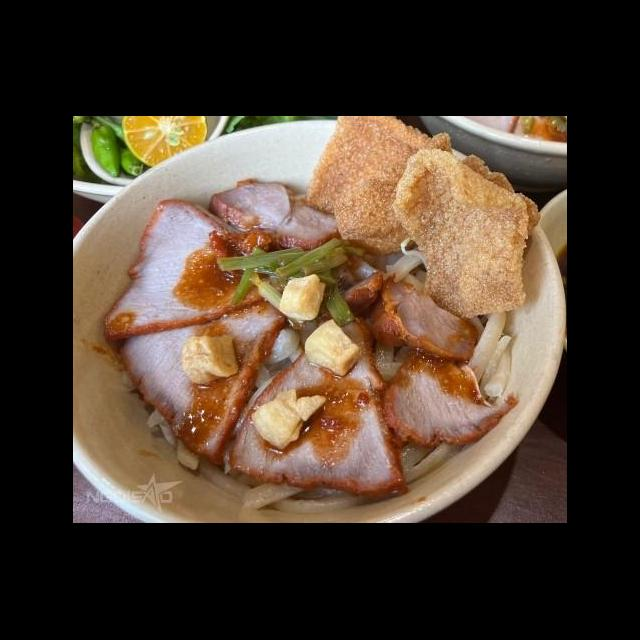banh da: (389, 144, 532, 324), (333, 132, 458, 260), (298, 118, 441, 218), (449, 150, 544, 272)
mi: (168, 438, 374, 524), (243, 318, 322, 412), (455, 304, 516, 410), (360, 242, 431, 300), (396, 432, 464, 488)
thit heo: (216, 310, 412, 503), (115, 290, 293, 468), (97, 195, 283, 344), (377, 342, 520, 451), (361, 270, 481, 364), (205, 176, 344, 254), (309, 266, 385, 328)
